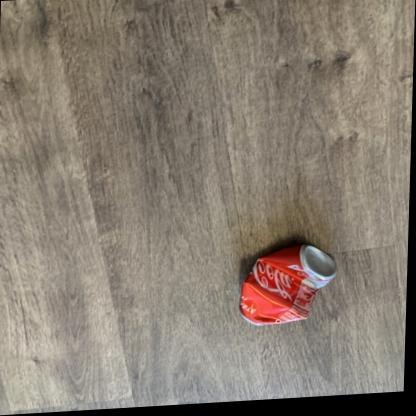trash: (240, 244, 335, 325)
